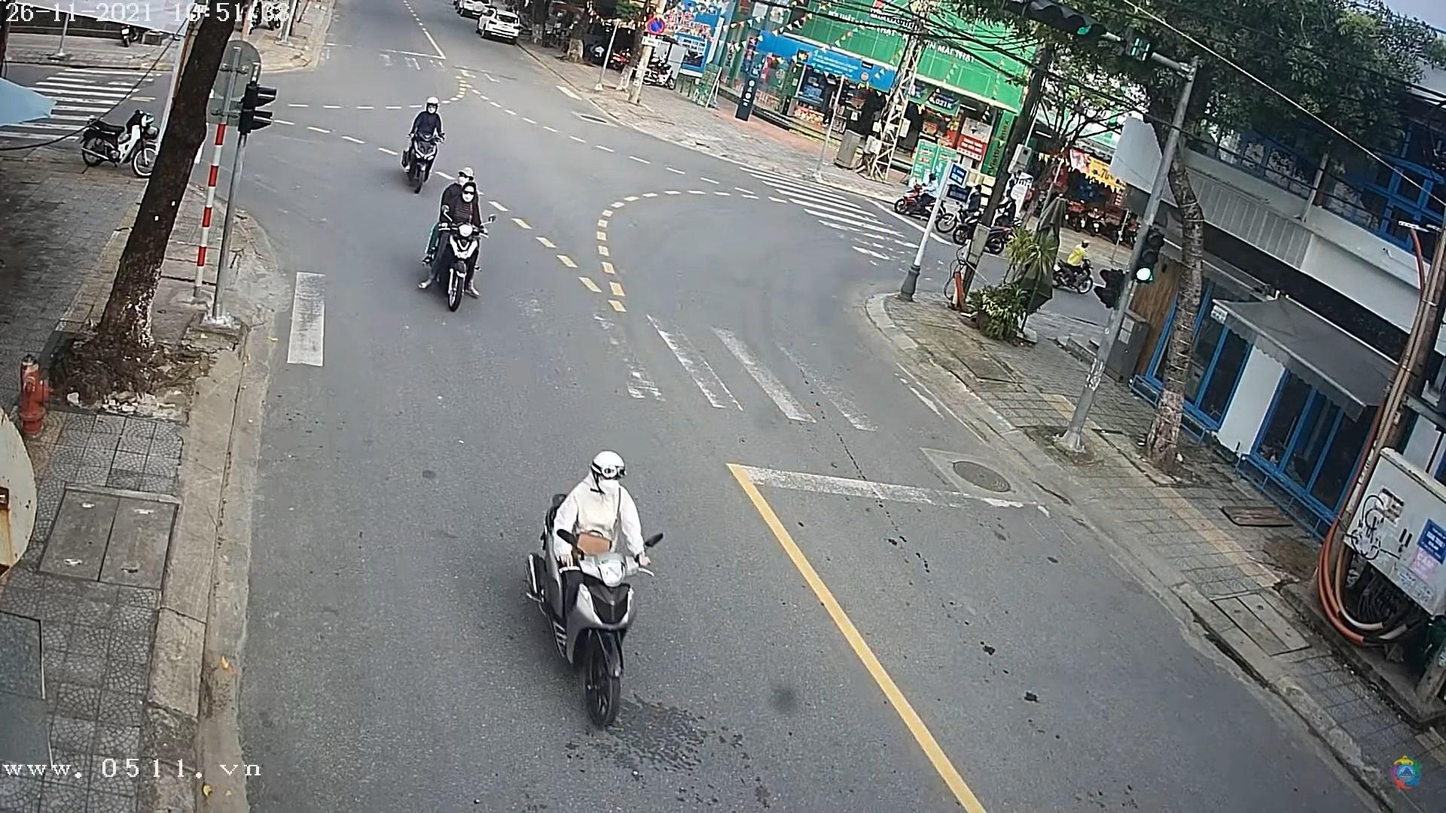car: (453, 2, 497, 20)
motorbike: (526, 488, 671, 720), (426, 192, 489, 318), (396, 119, 443, 191)
